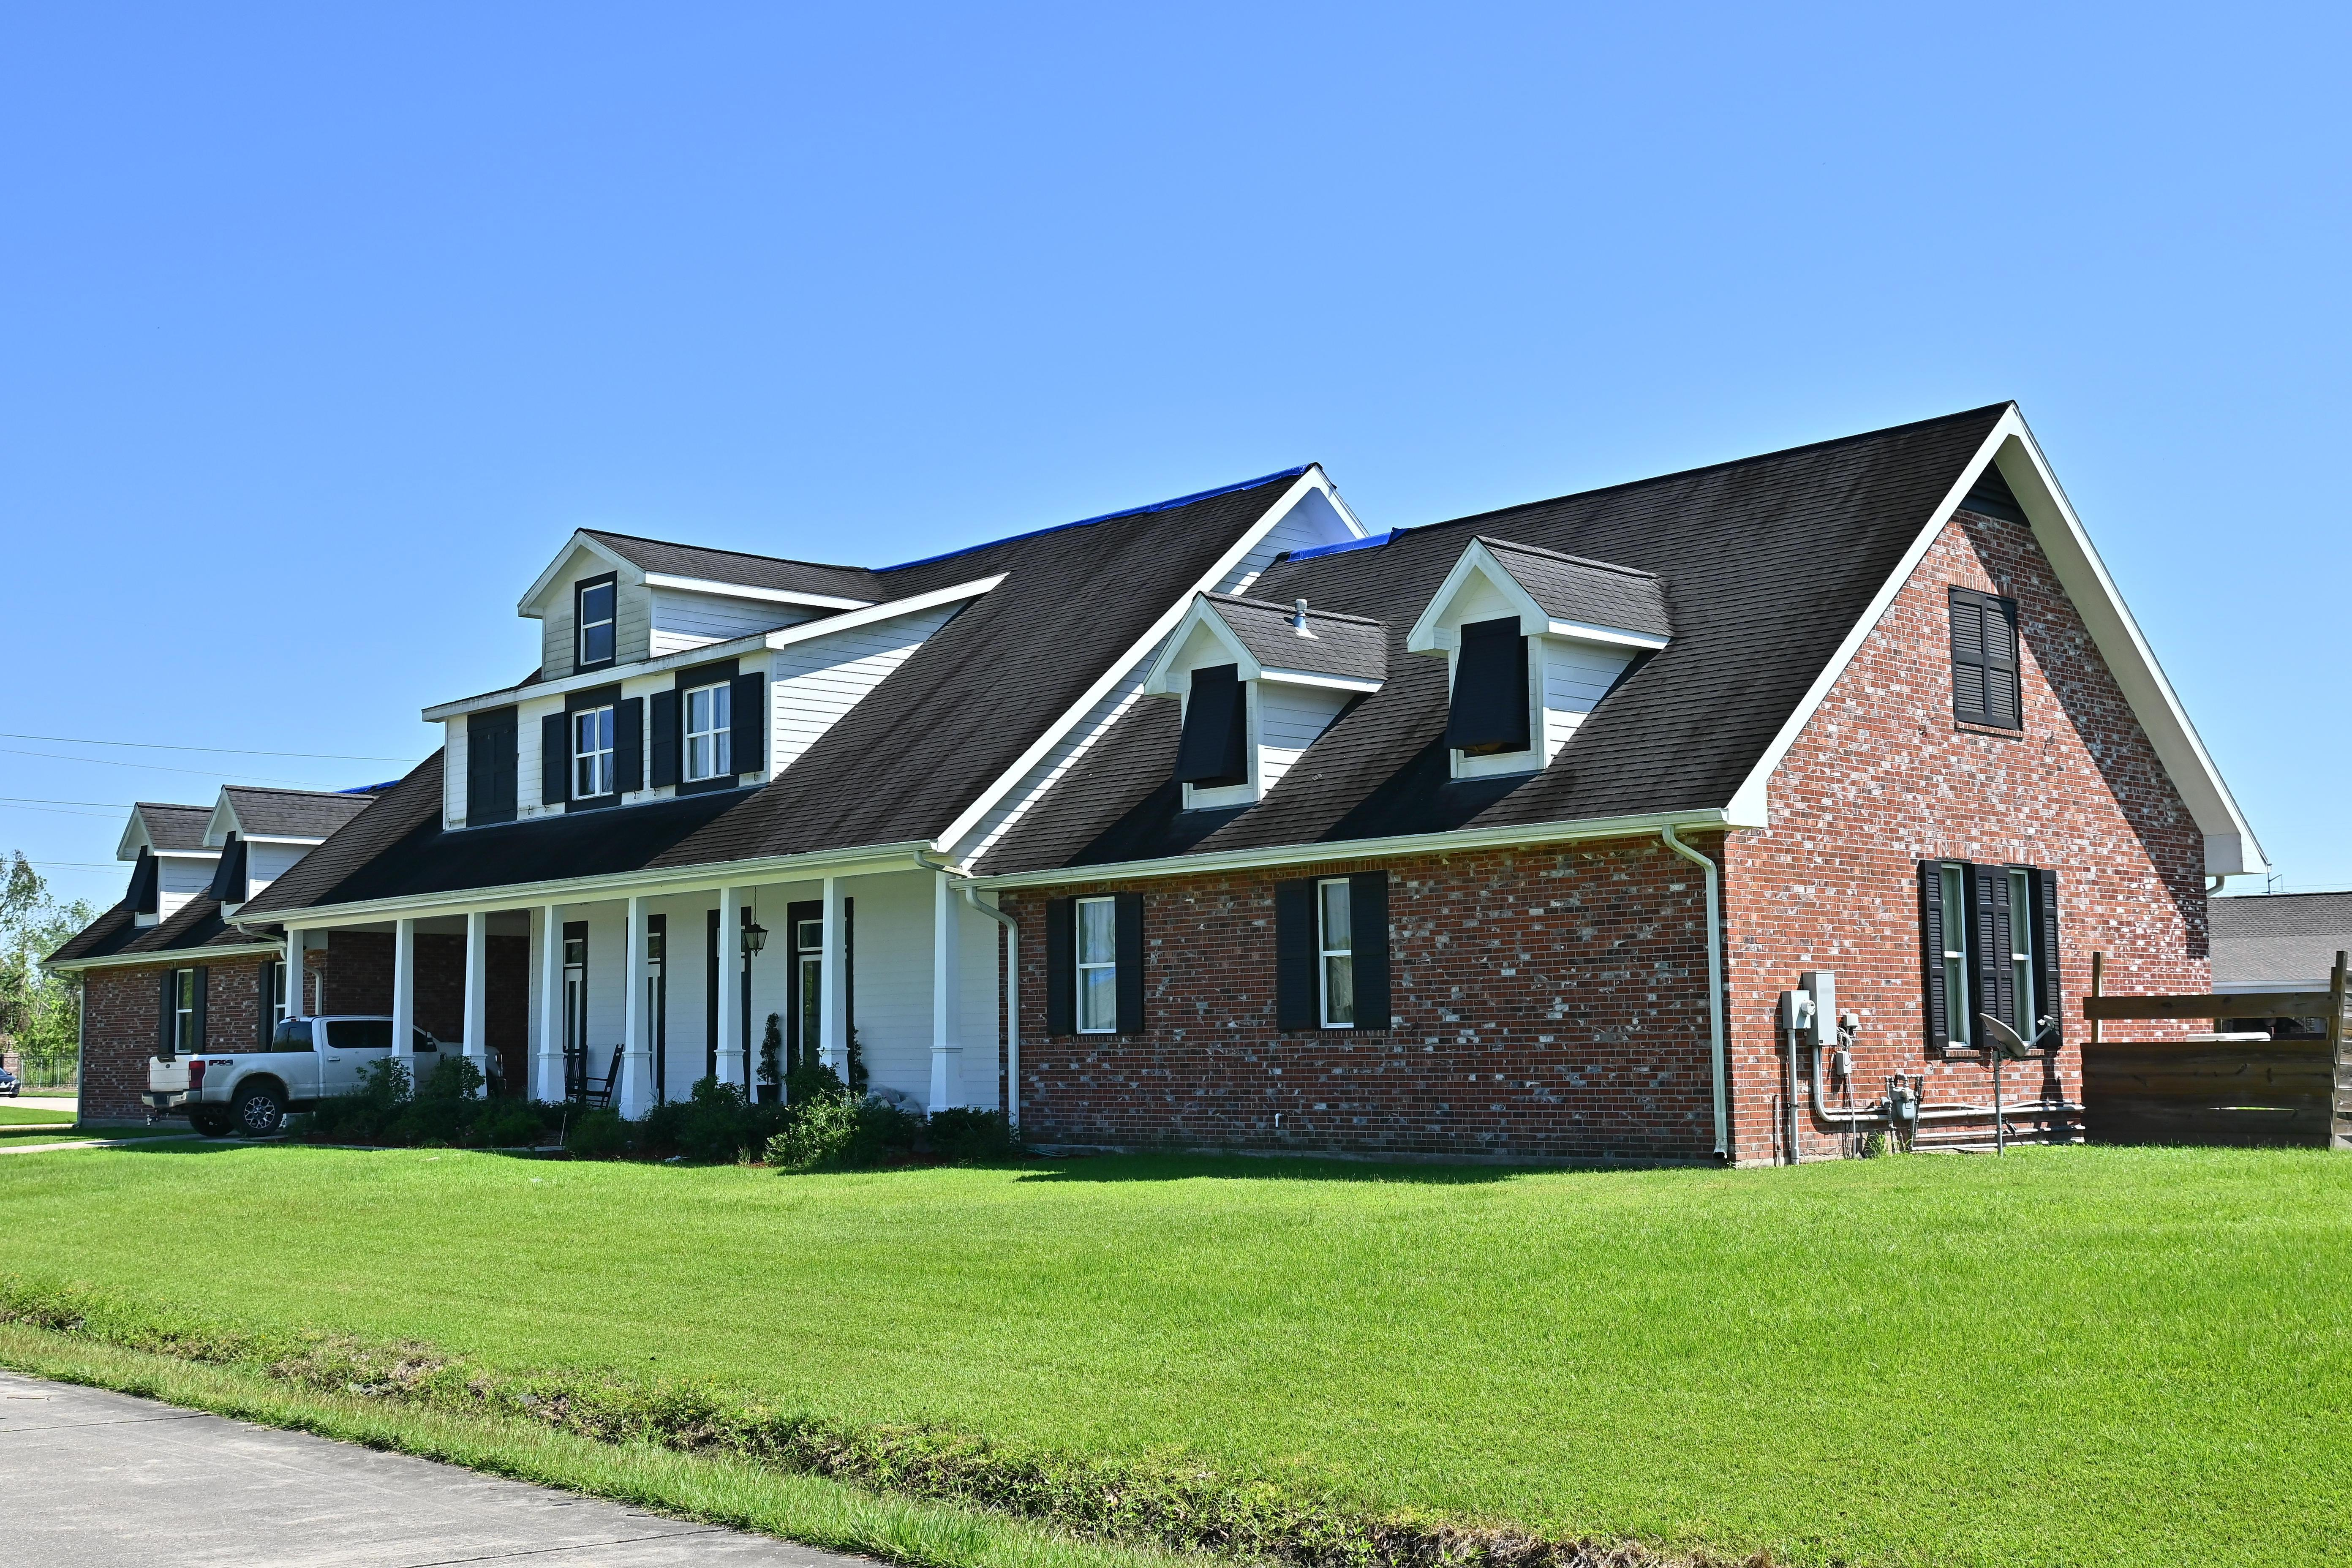affected: (63, 326, 2215, 1157)
